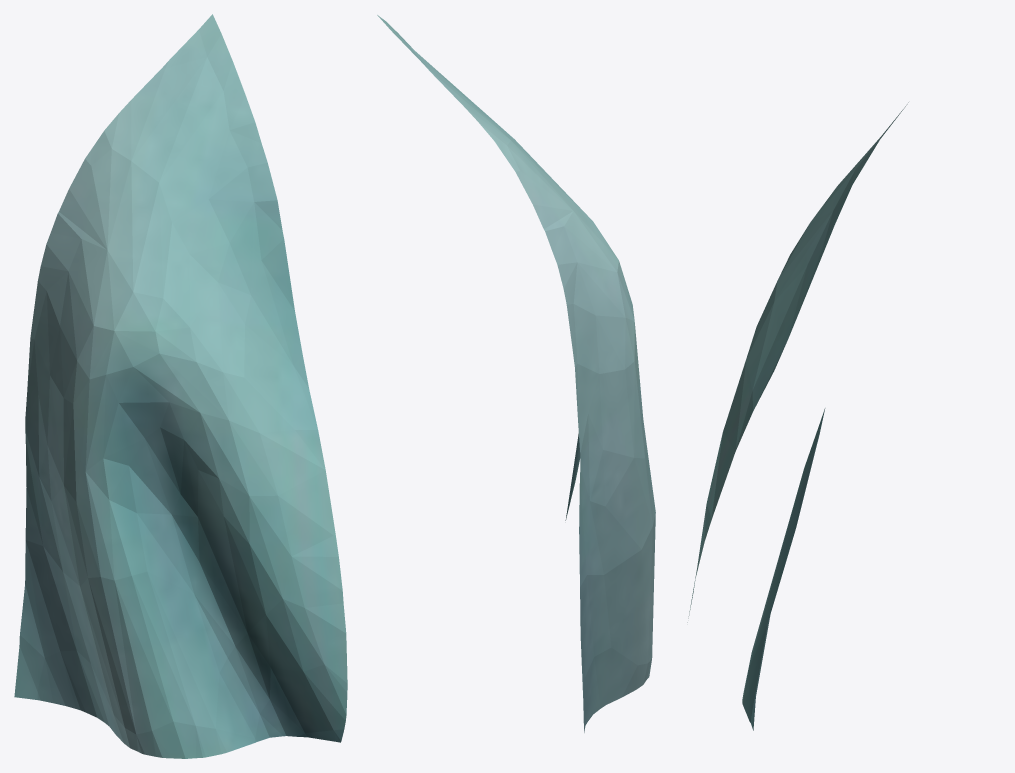
The picture shows the model from 3 angles, left to right: view 1: azimuth 30°, elevation 25°; view 2: azimuth 150°, elevation 25°; view 3: azimuth 270°, elevation 25°; orthographic projection. The views are drawn at different scales.
Bounding box in the file's own units: 24.36 × 74.54 × 28.72.
1 material, 1 textured.
